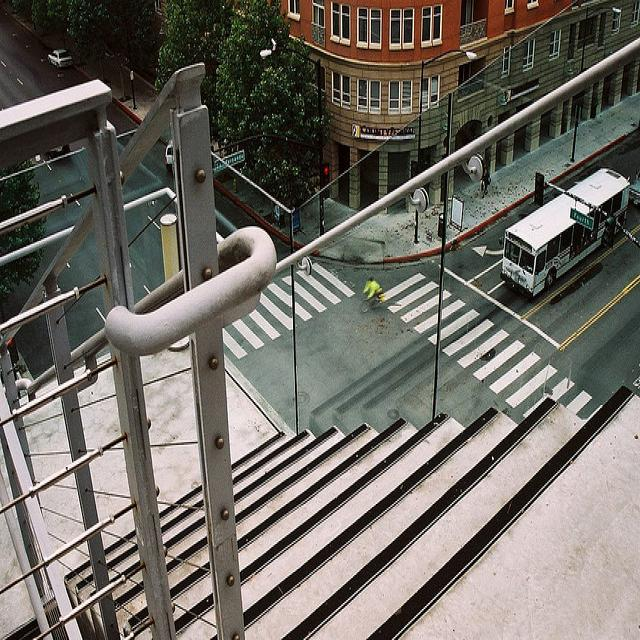Vehicle: (501, 167, 631, 297), (46, 48, 74, 69), (165, 138, 173, 171)
